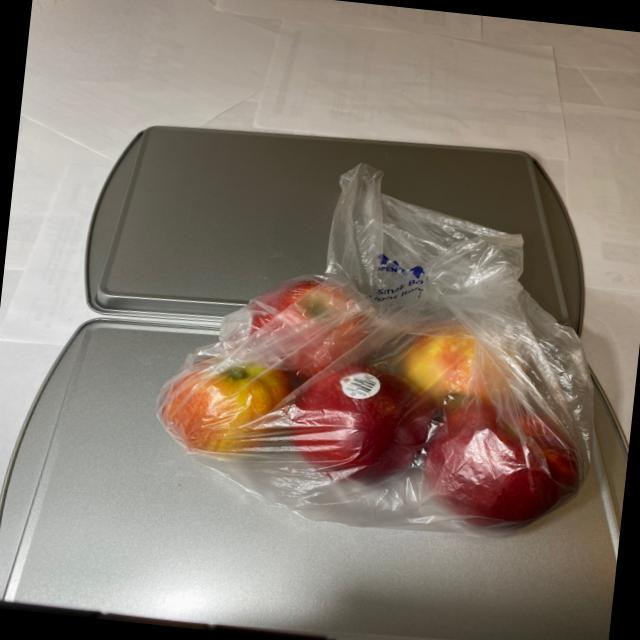apple: (138, 260, 606, 550)
